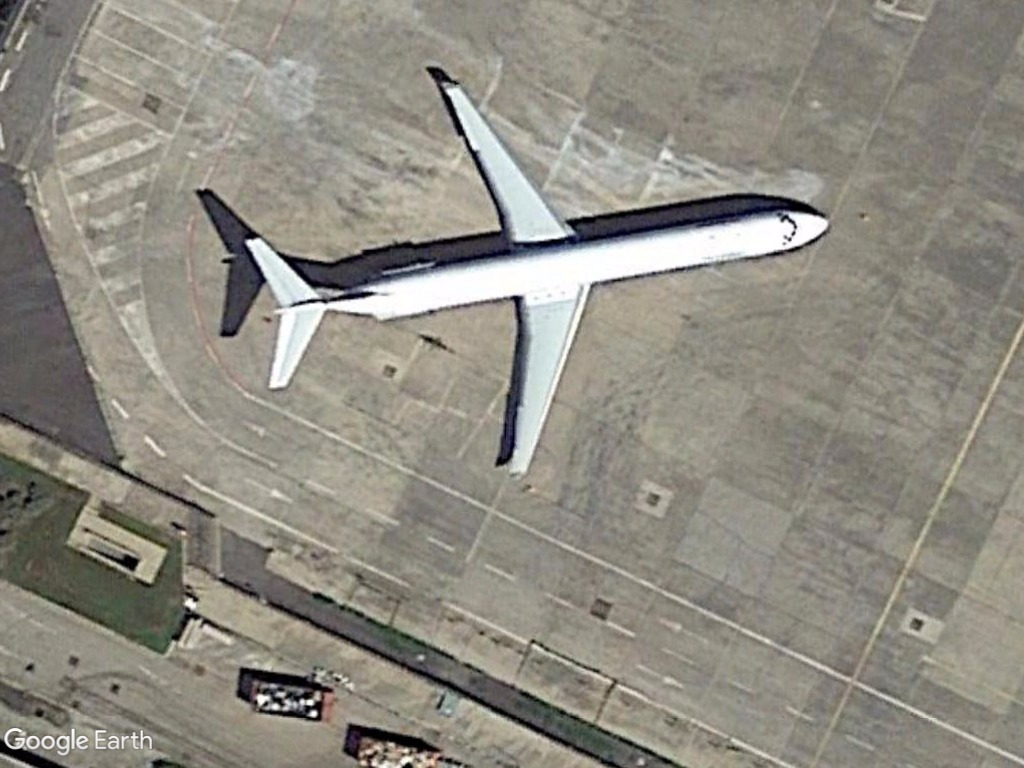airliner: (240, 68, 840, 488)
